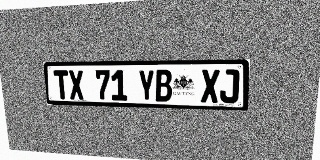1: (110, 70, 127, 101)
7: (94, 70, 111, 100)
B: (155, 70, 172, 102)
J: (220, 69, 239, 103)
T: (53, 70, 70, 99)
X: (201, 69, 220, 103), (68, 70, 85, 100)
Y: (138, 70, 155, 101)
